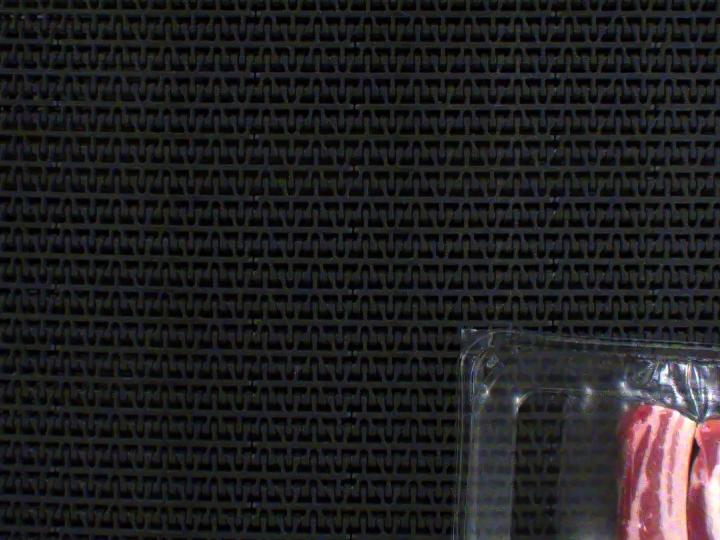unsealed: (485, 357, 720, 540)
